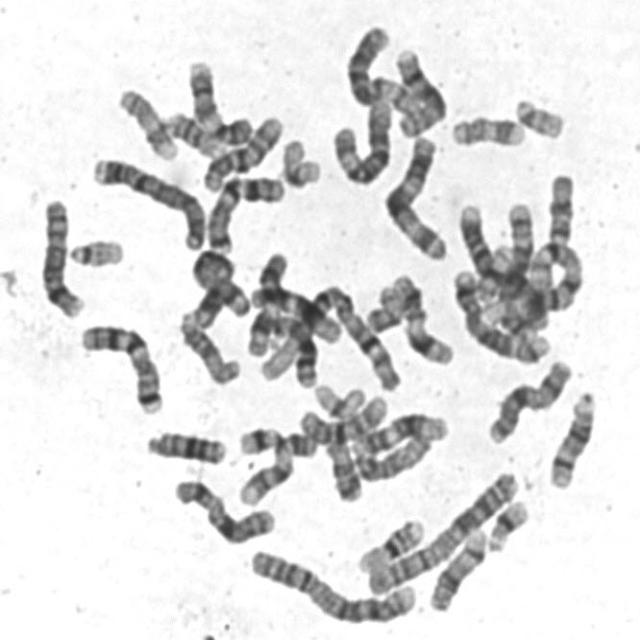A1: (256, 284, 402, 395), (475, 235, 588, 323)
A2: (358, 463, 526, 597), (243, 540, 420, 626)
A3: (376, 128, 451, 262), (189, 247, 253, 332)
B4: (84, 148, 208, 254), (456, 201, 552, 335)
B5: (448, 262, 553, 366), (495, 194, 541, 347)
C10: (197, 107, 286, 193), (294, 389, 390, 446)
C11: (388, 267, 457, 368), (240, 243, 292, 359)
C12: (244, 278, 345, 346), (347, 405, 451, 458)
C6: (340, 17, 422, 117), (325, 89, 395, 188)
C7: (72, 315, 166, 416), (199, 168, 288, 255)
C8: (34, 190, 86, 321), (388, 40, 449, 139)
C9: (231, 424, 319, 507), (180, 52, 256, 146)
D13: (258, 307, 320, 390), (138, 422, 229, 467)
D14: (423, 522, 490, 614), (543, 382, 600, 490)
D15: (173, 306, 243, 387), (349, 425, 435, 484)
E16: (352, 511, 428, 574), (159, 104, 223, 159)
E17: (112, 80, 180, 162), (445, 107, 527, 150)
E18: (319, 434, 364, 504), (544, 170, 578, 247)
F19: (274, 130, 325, 191), (308, 374, 369, 422)
F20: (473, 243, 517, 302), (361, 279, 406, 335)
G21: (481, 491, 534, 554), (232, 418, 280, 456)
G22: (507, 90, 569, 141), (61, 230, 127, 269)
X: (480, 351, 576, 446), (166, 470, 279, 546)
